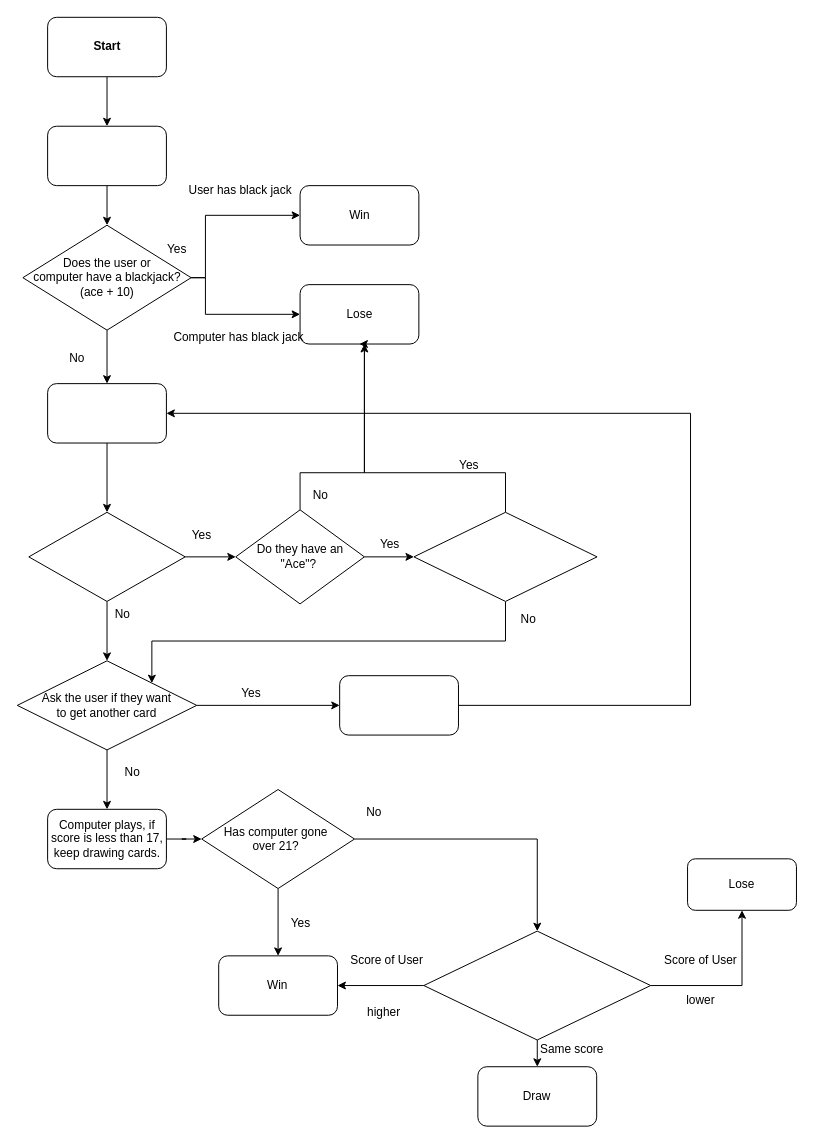
The diagram is 814 pixels wide and 1143 high, and some of its shapes have lost their labels. Here are the shapes that lost their labels. From the top down, the centre of each, then its label:
the point at 106,155: The user and computer should each get 2 random cards
the point at 106,413: Add up the user's and the computer's scores
the point at 106,556: Is user's score over 21?
the point at 505,556: If the ace counts as a 1 instead of 11, are they still over 21?
the point at 398,705: Draw another card
the point at 537,985: Compare user score with computer score to see if user score is higher?
